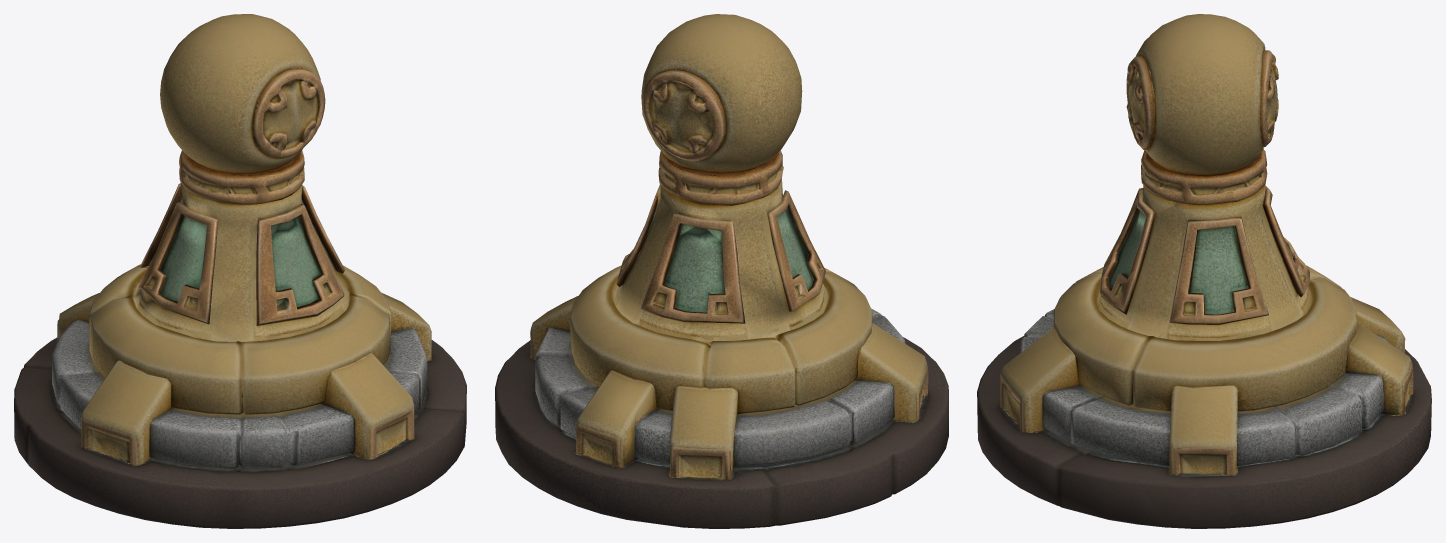
File: tripo_convert_88108ca0-9019-463e-afab-cbf9748edaa7.fbx
3 views of the same model, side by side, from view 1: azimuth 30°, elevation 25°; view 2: azimuth 150°, elevation 25°; view 3: azimuth 270°, elevation 25° (orthographic).
Parts seen in each view (by area): view 1: tripo_node_88108ca0; view 2: tripo_node_88108ca0; view 3: tripo_node_88108ca0.
Boxes of the visible parts, <box> form: tripo_node_88108ca0: <box>14,14,466,528</box>; tripo_node_88108ca0: <box>495,14,948,528</box>; tripo_node_88108ca0: <box>977,14,1431,528</box>.
Bounding box in the file's own units: 0.998 × 0.998 × 0.998.
1 material, 1 textured.
